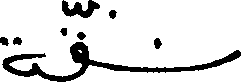ة: (0, 34, 49, 79)
ق: (57, 19, 93, 80)
ن: (132, 35, 239, 76)
